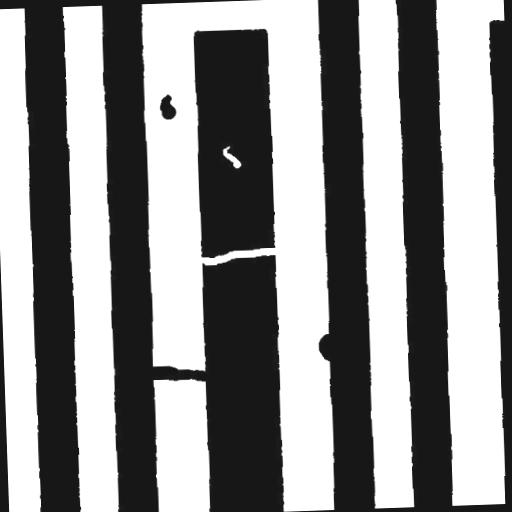copper: (151, 86, 183, 126)
open: (188, 238, 286, 272)
pin-hole: (214, 137, 248, 176)
short: (138, 356, 216, 391)
spur: (310, 324, 344, 368)
